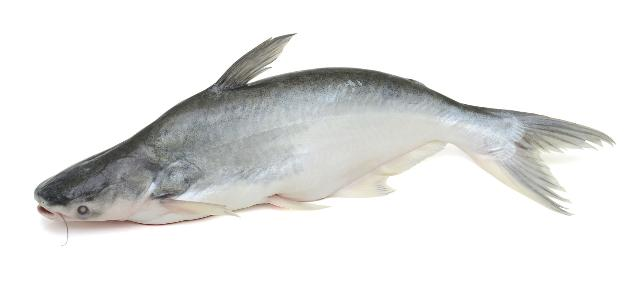Mulut: (27, 172, 88, 234)
Sirip Anal: (326, 128, 456, 204)
Sirip Dada: (146, 182, 250, 231)
Sirip Ekor: (470, 90, 626, 226)
Sirip Perut: (258, 184, 332, 224)
Sirip Punggung: (213, 28, 297, 90)
